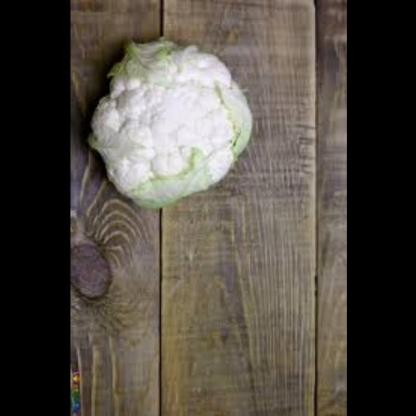cayliflower: (84, 29, 257, 217)
